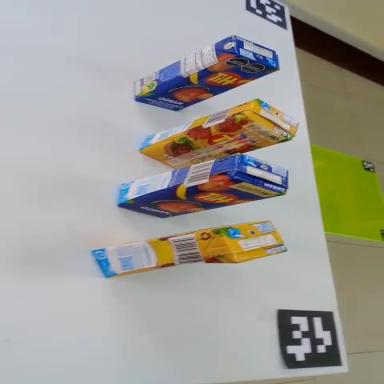HIT-MANGO: (126, 22, 282, 125), (113, 145, 291, 227)
HIT-MORA: (134, 91, 301, 177), (92, 219, 287, 279)
cara_F: (134, 42, 279, 125), (138, 106, 290, 180), (117, 168, 284, 227)
